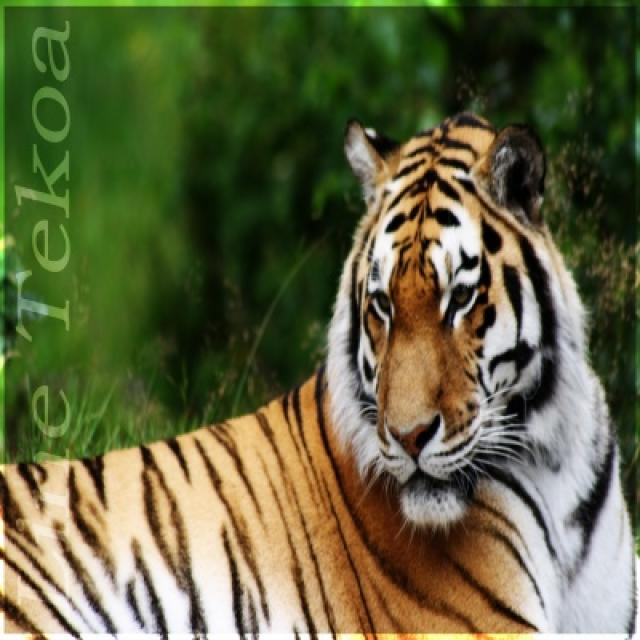Tiger: (0, 114, 638, 638)
